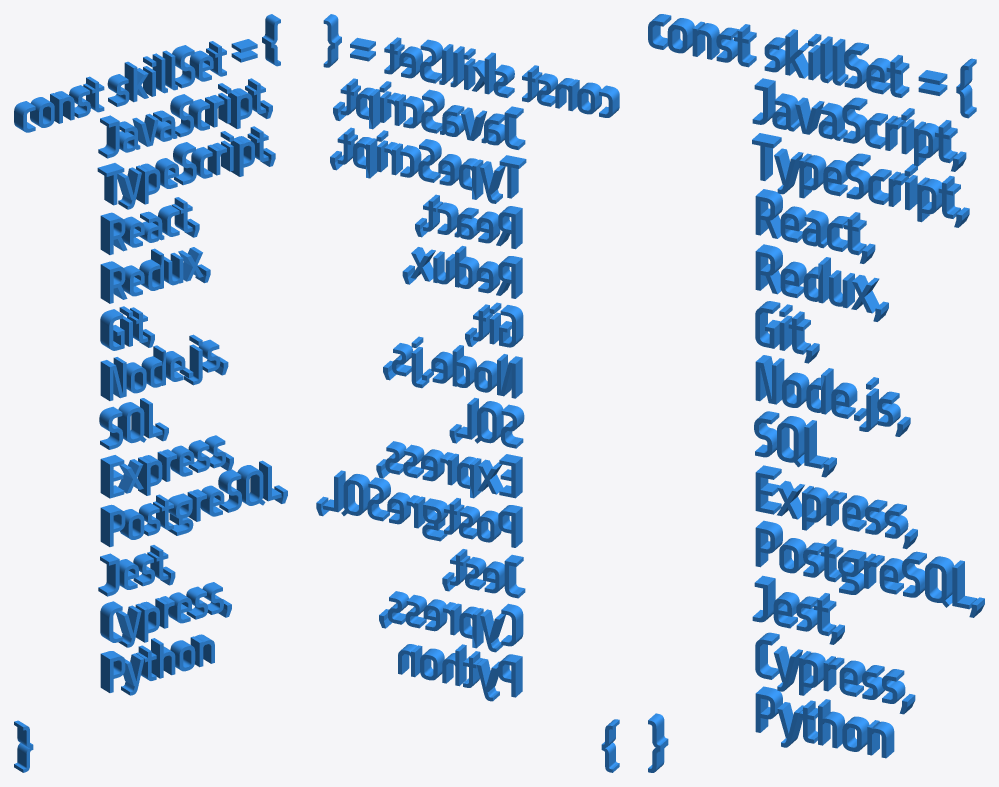
The model's file is skillsModel.obj.
3 renders of one model, left to right at view 1: azimuth 30°, elevation 25°; view 2: azimuth 150°, elevation 25°; view 3: azimuth 330°, elevation 25°, orthographic. The views are drawn at different scales.
Visible parts, largest first — view 1: 043_3D_Text_-_N, 040_3D_Text_-_Q, 028_3D_Text_-_Q, 055_3D_Text_-_R, 061_3D_Text_-_R, 024_3D_Text_-_g, 051_3D_Text_-_G, 031_3D_Text_-_E, 020_3D_Text_-_P, 001_3D_Text_-_P, 057_3D_Text_-_d, 045_3D_Text_-_d (+55 smaller); view 2: 043_3D_Text_-_N, 028_3D_Text_-_Q, 040_3D_Text_-_Q, 055_3D_Text_-_R, 061_3D_Text_-_R, 024_3D_Text_-_g, 051_3D_Text_-_G, 031_3D_Text_-_E, 045_3D_Text_-_d, 057_3D_Text_-_d, 001_3D_Text_-_P, 086_3D_Text_-_p (+50 smaller); view 3: 043_3D_Text_-_N, 028_3D_Text_-_Q, 040_3D_Text_-_Q, 055_3D_Text_-_R, 061_3D_Text_-_R, 024_3D_Text_-_g, 031_3D_Text_-_E, 051_3D_Text_-_G, 004_3D_Text_-_h, 020_3D_Text_-_P, 045_3D_Text_-_d, 057_3D_Text_-_d (+68 smaller).
Part boxes in pixels (left/top/right/bottom): 043_3D_Text_-_N: left=100, top=357, right=126, bottom=400; 040_3D_Text_-_Q: left=117, top=402, right=146, bottom=443; 028_3D_Text_-_Q: left=236, top=465, right=265, bottom=505; 055_3D_Text_-_R: left=100, top=261, right=127, bottom=303; 061_3D_Text_-_R: left=100, top=212, right=127, bottom=254; 024_3D_Text_-_g: left=168, top=493, right=193, bottom=535; 051_3D_Text_-_G: left=100, top=309, right=124, bottom=350; 031_3D_Text_-_E: left=100, top=455, right=124, bottom=498; 020_3D_Text_-_P: left=100, top=504, right=125, bottom=546; 001_3D_Text_-_P: left=100, top=651, right=125, bottom=692; 057_3D_Text_-_d: left=139, top=248, right=163, bottom=290; 045_3D_Text_-_d: left=141, top=345, right=165, bottom=387; 043_3D_Text_-_N: left=497, top=354, right=522, bottom=398; 028_3D_Text_-_Q: left=341, top=474, right=370, bottom=515; 040_3D_Text_-_Q: left=474, top=401, right=503, bottom=443; 055_3D_Text_-_R: left=496, top=256, right=522, bottom=298; 061_3D_Text_-_R: left=496, top=206, right=522, bottom=249; 024_3D_Text_-_g: left=422, top=498, right=448, bottom=541; 051_3D_Text_-_G: left=499, top=305, right=523, bottom=347; 031_3D_Text_-_E: left=499, top=454, right=522, bottom=498; 045_3D_Text_-_d: left=452, top=345, right=476, bottom=387; 057_3D_Text_-_d: left=455, top=245, right=479, bottom=288; 001_3D_Text_-_P: left=498, top=654, right=522, bottom=697; 086_3D_Text_-_p: left=356, top=87, right=380, bottom=129; 043_3D_Text_-_N: left=755, top=355, right=784, bottom=404; 028_3D_Text_-_Q: left=925, top=556, right=953, bottom=607; 040_3D_Text_-_Q: left=777, top=416, right=805, bottom=467; 055_3D_Text_-_R: left=755, top=244, right=782, bottom=294; 061_3D_Text_-_R: left=755, top=189, right=782, bottom=238; 024_3D_Text_-_g: left=838, top=549, right=866, bottom=594; 031_3D_Text_-_E: left=755, top=465, right=781, bottom=514; 051_3D_Text_-_G: left=755, top=301, right=780, bottom=348; 004_3D_Text_-_h: left=818, top=699, right=844, bottom=748; 020_3D_Text_-_P: left=755, top=520, right=782, bottom=567; 045_3D_Text_-_d: left=806, top=368, right=833, bottom=414; 057_3D_Text_-_d: left=803, top=257, right=830, bottom=303.
Size of the model in its own units: 299 by 697 by 38.29.
